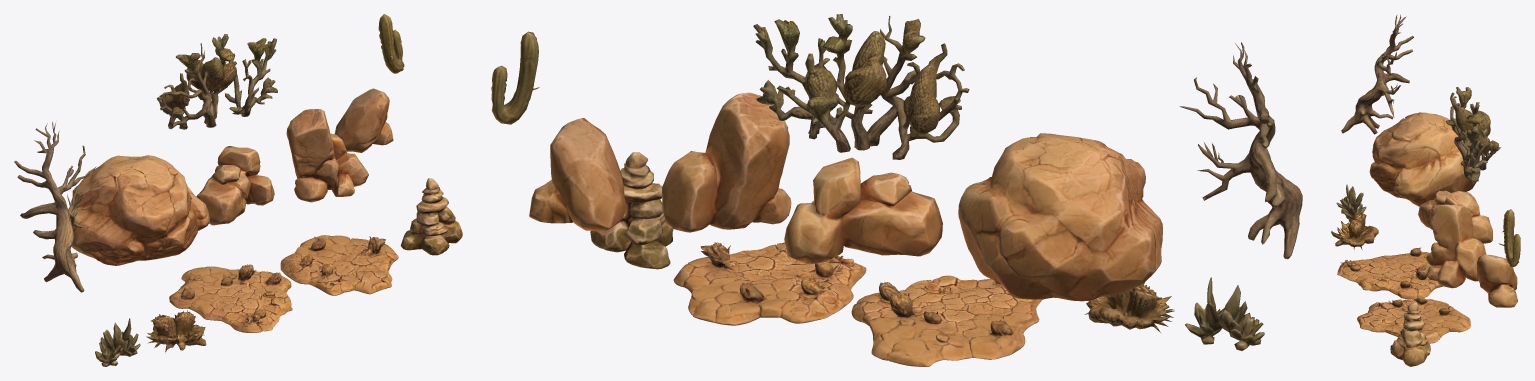
The model's file is Decorativos Mapa2.glb.
3 renders of one model, left to right at view 1: azimuth 30°, elevation 25°; view 2: azimuth 150°, elevation 25°; view 3: azimuth 270°, elevation 25°, orthographic. The views are drawn at different scales.
Parts seen in each view (by area): view 1: tripo_node_61170202-3e2c-4127-9683-4dd6fd55baf7; view 2: tripo_node_61170202-3e2c-4127-9683-4dd6fd55baf7; view 3: tripo_node_61170202-3e2c-4127-9683-4dd6fd55baf7.
Part boxes in pixels (left/top/right/bottom): tripo_node_61170202-3e2c-4127-9683-4dd6fd55baf7: left=14, top=14, right=462, bottom=366; tripo_node_61170202-3e2c-4127-9683-4dd6fd55baf7: left=491, top=14, right=1302, bottom=366; tripo_node_61170202-3e2c-4127-9683-4dd6fd55baf7: left=1331, top=14, right=1520, bottom=366.
Size of the model in its own units: 0.9808 by 0.477 by 0.4332.
Materials: 1 (1 with a texture image).
